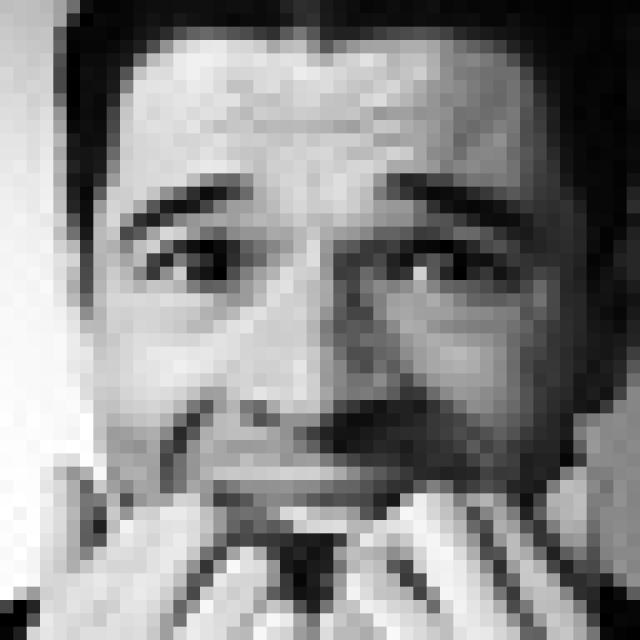fear: (116, 144, 554, 608)
